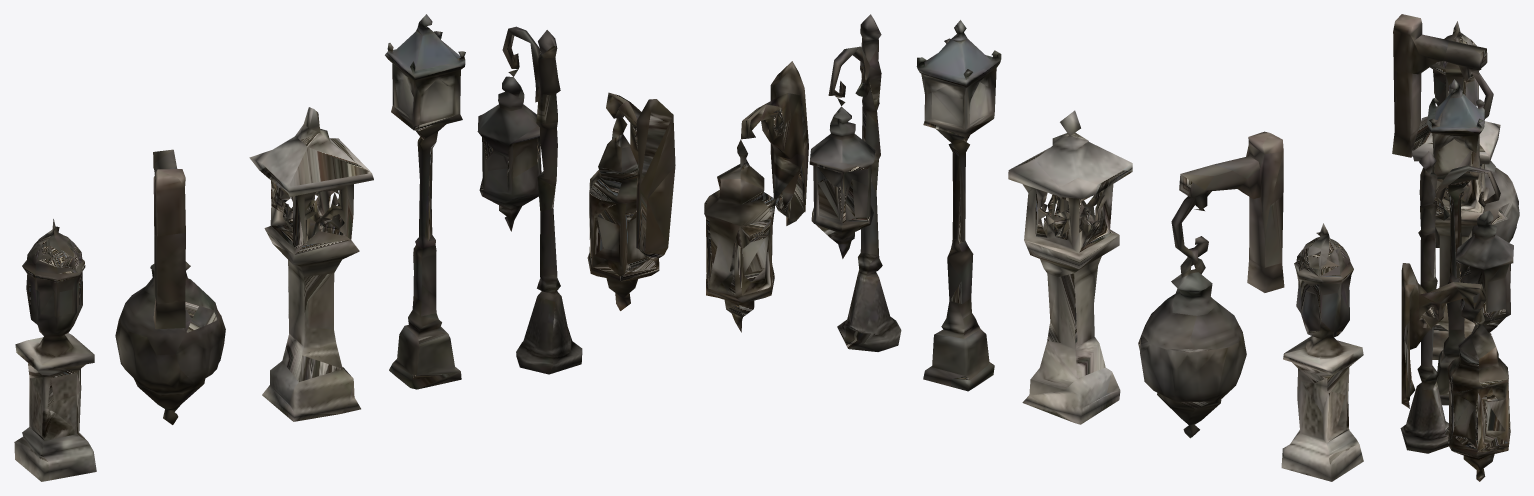
The model's file is lamps_wall_street.glb.
The picture shows the model from 3 angles, left to right: view 1: azimuth 30°, elevation 25°; view 2: azimuth 150°, elevation 25°; view 3: azimuth 270°, elevation 25°; orthographic projection. The views are drawn at different scales.
Parts seen in each view (by area): view 1: lamp_stone_pillar, lamp_street_arm, lamp_gate_hanging, lamp_pedestal_small, lamp_wall_bracket, lamp_post; view 2: lamp_stone_pillar, lamp_gate_hanging, lamp_wall_bracket, lamp_street_arm, lamp_post, lamp_pedestal_small; view 3: lamp_wall_bracket, lamp_street_arm, lamp_gate_hanging, lamp_post, lamp_stone_pillar, lamp_pedestal_small.
Part boxes in pixels (x1,y1,x2,y2): lamp_stone_pillar: (249, 107, 373, 421); lamp_street_arm: (477, 26, 582, 374); lamp_gate_hanging: (115, 149, 225, 424); lamp_pedestal_small: (14, 219, 96, 481); lamp_wall_bracket: (587, 92, 675, 310); lamp_post: (385, 14, 465, 389); lamp_stone_pillar: (1008, 110, 1132, 424); lamp_gate_hanging: (1138, 131, 1284, 438); lamp_wall_bracket: (704, 61, 808, 332); lamp_street_arm: (809, 14, 901, 351); lamp_post: (916, 20, 1001, 391); lamp_pedestal_small: (1281, 223, 1363, 481); lamp_wall_bracket: (1401, 263, 1510, 481); lamp_street_arm: (1400, 151, 1513, 453); lamp_gate_hanging: (1392, 14, 1519, 245); lamp_post: (1427, 79, 1485, 405); lamp_stone_pillar: (1412, 88, 1500, 359); lamp_pedestal_small: (1430, 21, 1481, 247).
Bounding box in the file's own units: 0.9852 × 0.5283 × 0.1931.
1 material, 1 textured.
